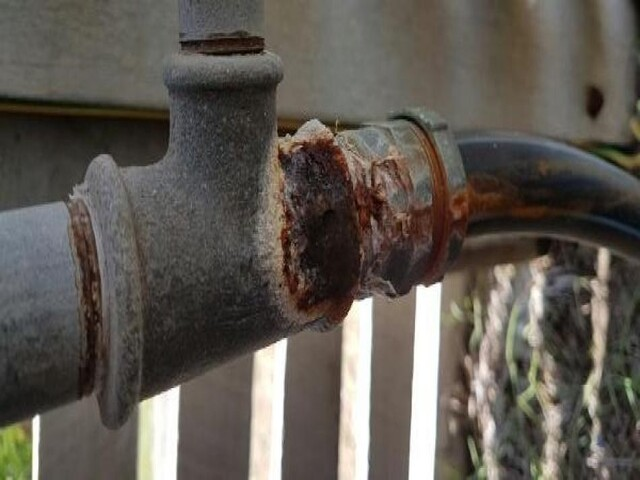Moderate: (470, 175, 546, 221)
Severe: (274, 106, 461, 330)
